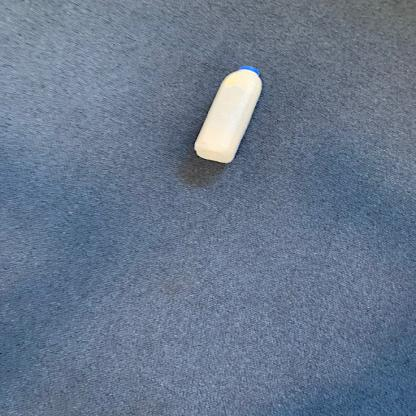trash: (193, 66, 266, 166)
